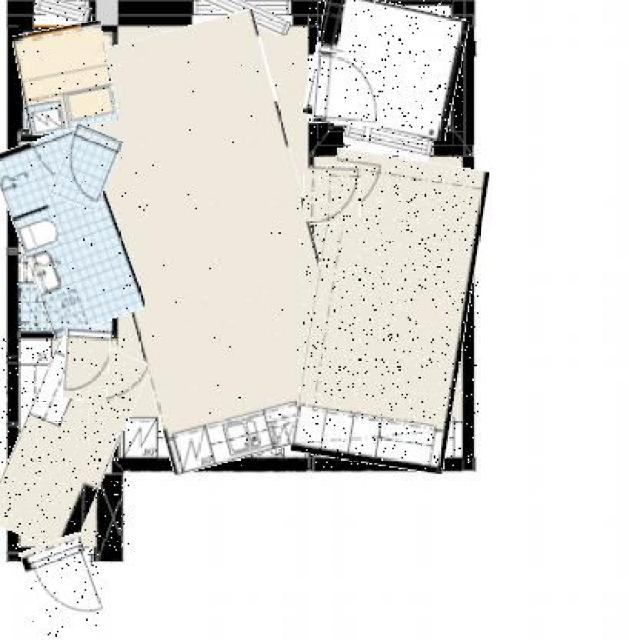door: (26, 537, 102, 637), (314, 52, 391, 126), (55, 126, 117, 208), (65, 326, 109, 400), (305, 166, 360, 225)
window: (344, 125, 434, 157), (192, 0, 291, 26), (34, 0, 92, 20)
zone: (89, 19, 337, 468), (303, 154, 479, 469), (0, 335, 131, 551), (3, 131, 131, 334), (308, 0, 463, 134), (17, 25, 115, 132)
